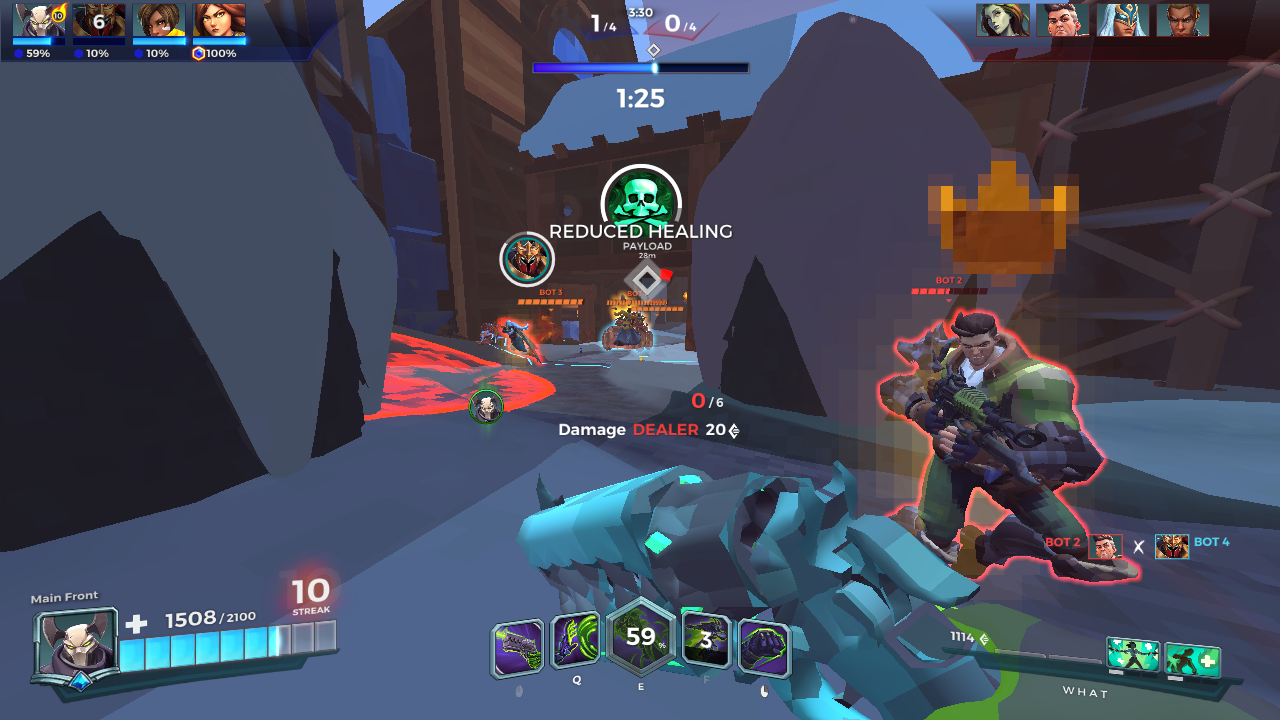model: (887, 307, 1050, 593), (500, 314, 545, 367)
